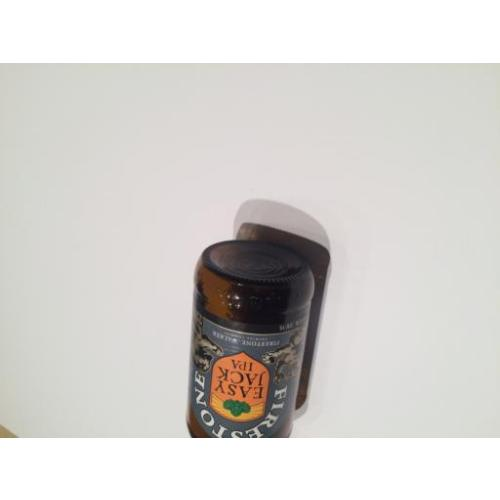glass: (188, 240, 314, 439)
